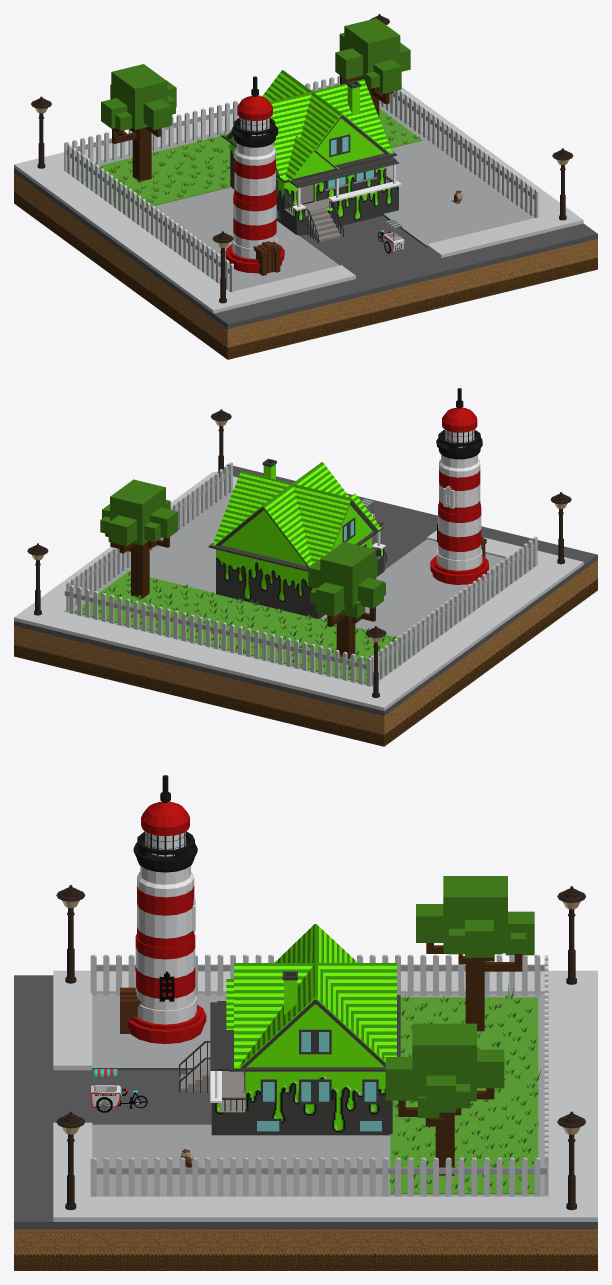
The picture shows the model from 3 angles, top to bottom: view 1: azimuth 30°, elevation 25°; view 2: azimuth 150°, elevation 25°; view 3: azimuth 270°, elevation 25°; orthographic projection. The views are drawn at different scales.
Parts seen in each view (by area): view 1: Cube.004, Cube.754, OBJRANDOM_LIGHTHOUSE, VEHICLES_SNOWBAL_BIKE; view 2: Cube.004, Cube.754, OBJRANDOM_LIGHTHOUSE; view 3: Cube.004, Cube.754, OBJRANDOM_LIGHTHOUSE, VEHICLES_SNOWBAL_BIKE.
Boxes of the visible parts, x1,y1,x2,y2 form: Cube.004: (14, 14, 597, 359); Cube.754: (222, 70, 401, 243); OBJRANDOM_LIGHTHOUSE: (225, 76, 284, 275); VEHICLES_SNOWBAL_BIKE: (377, 219, 404, 253); Cube.004: (14, 409, 597, 746); Cube.754: (208, 458, 386, 618); OBJRANDOM_LIGHTHOUSE: (430, 388, 488, 584); Cube.004: (14, 876, 597, 1270); Cube.754: (178, 924, 400, 1135); OBJRANDOM_LIGHTHOUSE: (120, 775, 206, 1043); VEHICLES_SNOWBAL_BIKE: (90, 1069, 147, 1112).
Bounding box in the file's own units: 4000 × 2377 × 4000.
36 materials, 4 textured.
